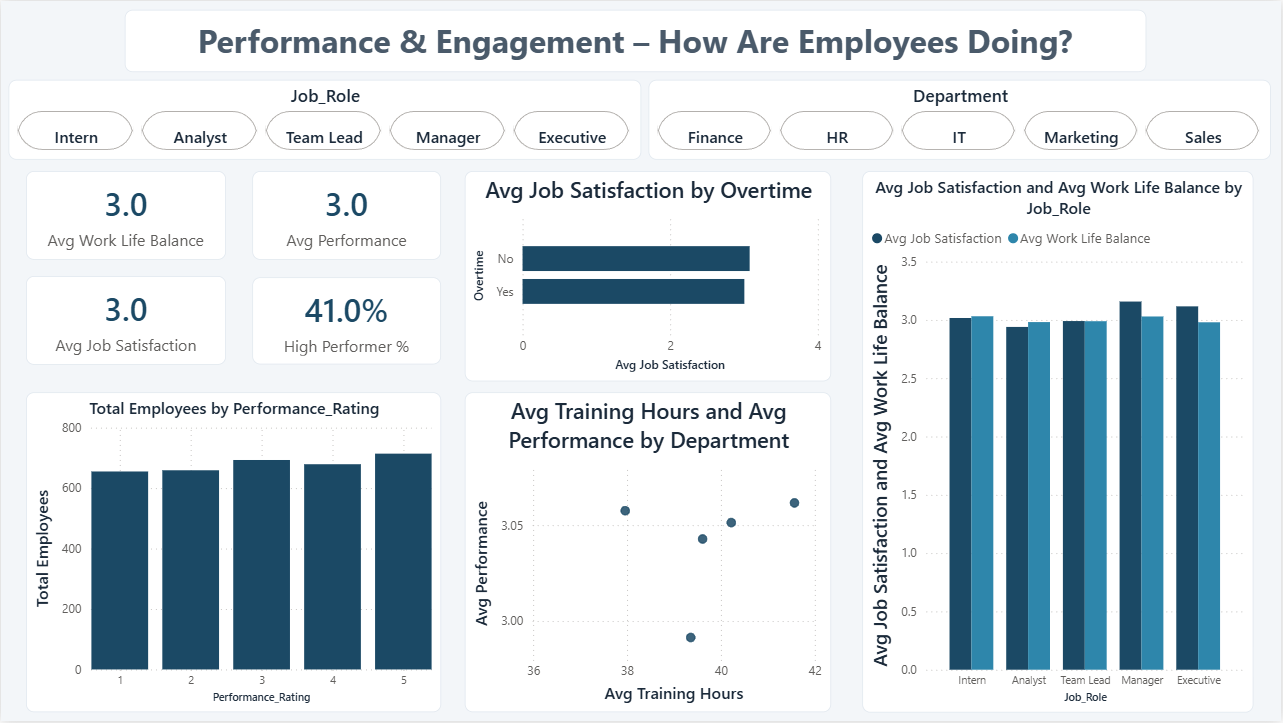

What the dashboard file says about the page in this screenshot:
{"tool":"powerbi","page":{"name":"Performance & Engagement","canvas":[1280,720],"ordinal":3},"visuals":[{"type":"textbox","box":[123.8,8.8,1021.2,62.5],"z":0},{"type":"card","fields":{"Values":["Fact_Employee.Avg Performance"]},"box":[251.2,170,188.8,88.8],"z":1000},{"type":"card","fields":{"Values":["Fact_Employee.High Performer %"]},"box":[251.2,276.2,188.8,87.5],"z":2000},{"type":"card","fields":{"Values":["Fact_Employee.Avg Job Satisfaction"]},"box":[25,275,200,88.8],"z":3000},{"type":"card","fields":{"Values":["Fact_Employee.Avg Work Life Balance"]},"box":[25,170,200,88.8],"z":4000},{"type":"advancedSlicerVisual","fields":{"Values":["Dim_JobRole.Job_Role"]},"box":[7.5,78.8,632.5,80],"z":5000},{"type":"advancedSlicerVisual","fields":{"Values":["Dim_Department.Department"]},"box":[647.5,78.8,622.5,80],"z":6000},{"type":"clusteredColumnChart","fields":{"Y":["Fact_Employee.Total Employees"],"Category":["Fact_Employee.Performance_Rating"]},"box":[25,391.2,415,320],"z":7000},{"type":"scatterChart","fields":{"Category":["Dim_Department.Department"],"X":["Fact_Employee.Avg Training Hours"],"Y":["Fact_Employee.Avg Performance"]},"box":[463.8,391.2,366.2,320],"z":8000},{"type":"clusteredColumnChart","fields":{"Category":["Dim_JobRole.Job_Role"],"Y":["Fact_Employee.Avg Job Satisfaction","Fact_Employee.Avg Work Life Balance"]},"box":[861.2,170,391.2,541.2],"z":9000},{"type":"clusteredBarChart","fields":{"Category":["Fact_Employee.Overtime"],"Y":["Fact_Employee.Avg Job Satisfaction"]},"box":[463.8,170,366.2,210],"z":10000}]}

Visuals, with their boxes in screenshot pixels (x1, y1, x2, y2), scaled from the page's 1280x720 canvas onto the 1283x723 screenshot:
textbox: box=[124, 9, 1148, 72]
card - Fact_Employee.Avg Performance: box=[252, 171, 441, 260]
card - Fact_Employee.High Performer %: box=[252, 277, 441, 365]
card - Fact_Employee.Avg Job Satisfaction: box=[25, 276, 226, 365]
card - Fact_Employee.Avg Work Life Balance: box=[25, 171, 226, 260]
advancedSlicerVisual - Dim_JobRole.Job_Role: box=[8, 79, 642, 159]
advancedSlicerVisual - Dim_Department.Department: box=[649, 79, 1273, 159]
clusteredColumnChart - Fact_Employee.Total Employees x Fact_Employee.Performance_Rating: box=[25, 393, 441, 714]
scatterChart - Dim_Department.Department x Fact_Employee.Avg Training Hours: box=[465, 393, 832, 714]
clusteredColumnChart - Dim_JobRole.Job_Role x Fact_Employee.Avg Job Satisfaction: box=[863, 171, 1255, 714]
clusteredBarChart - Fact_Employee.Overtime x Fact_Employee.Avg Job Satisfaction: box=[465, 171, 832, 382]
